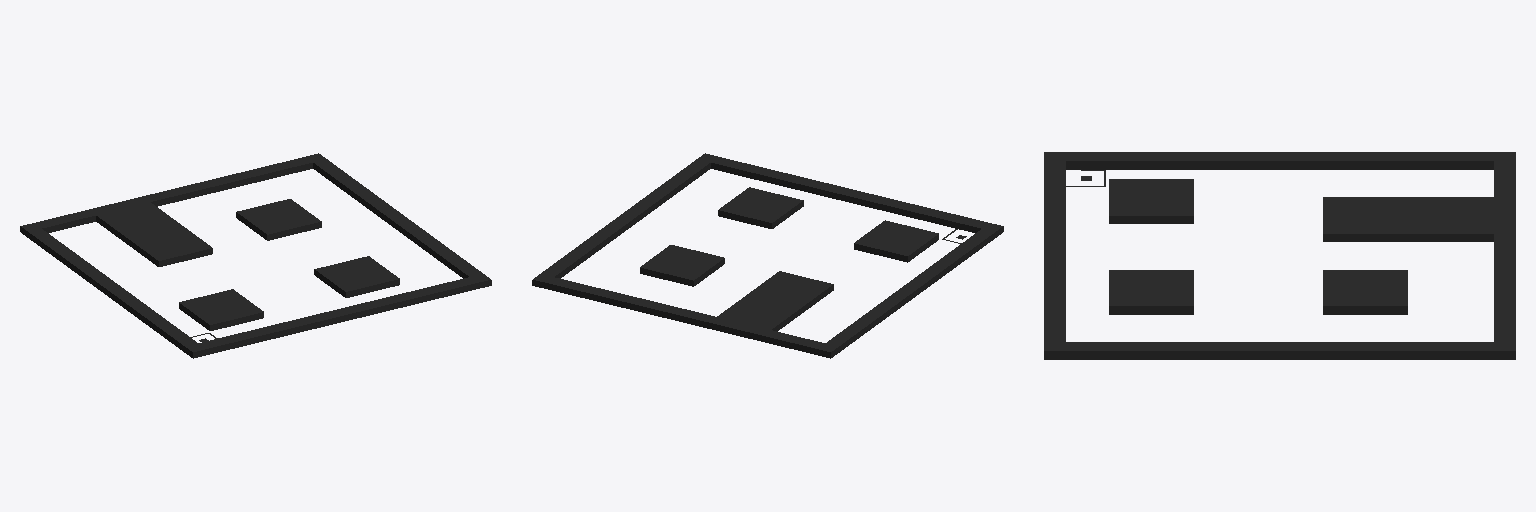
URDF robot description (Room31):
<robot name="Room31">
    <link name="_name">
        <visual> 
            <origin rpy="0.0 0.0 0.0" xyz="-0.474672460997209 -0.516502003060036 -0.009999999999999995" />
                <geometry>
                    <mesh filename="Room31/Room31.obj" scale="1 1 0.1" />
                </geometry>

            <material name="black">
                <color rgba="0.2 0.2 0.2 0.95" />
            </material>
        </visual>

       <collision concave="yes" name="collision_0">
            <origin rpy="0.0 0.0 0.0" xyz="-0.474672460997209 -0.516502003060036 -0.009999999999999995" />
            <geometry>
                <mesh filename="Room31/Room31_vhacd.obj" scale="1 1 0.1" />
            </geometry>
        </collision>

        <inertial> 
            <mass value="0" />
            <inertia ixx="0" ixy="0" ixz="0" iyy="0" iyz="0" izz="0" />
        </inertial> 
    </link>
</robot>

--- What the picture shows (computed from the rendered views, not written in the file) ---
The picture shows the robot from 3 angles, left to right: view 1: azimuth 30°, elevation 25°; view 2: azimuth 150°, elevation 25°; view 3: azimuth 270°, elevation 25°; orthographic projection.
Model Room31 with 1 links and 0 joints (none), rooted at _name, posed every joint at zero.
Visible links, largest first — view 1: _name; view 2: _name; view 3: _name.
Link boxes in pixels (x1,y1,x2,y2): _name: (20,153,491,358); _name: (532,153,1003,358); _name: (1044,152,1515,359).
Size in the robot's own frame: 1 by 1 by 0.02 metres.
Meshes: 1 distinct files referenced, 1 mesh visuals loaded (1 OBJ).